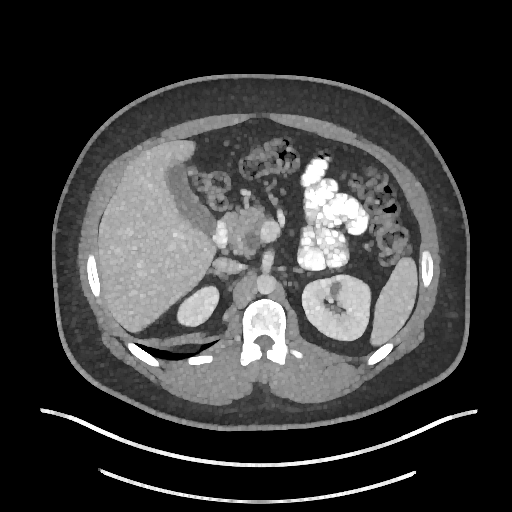Lesion: (326, 279, 343, 300)
